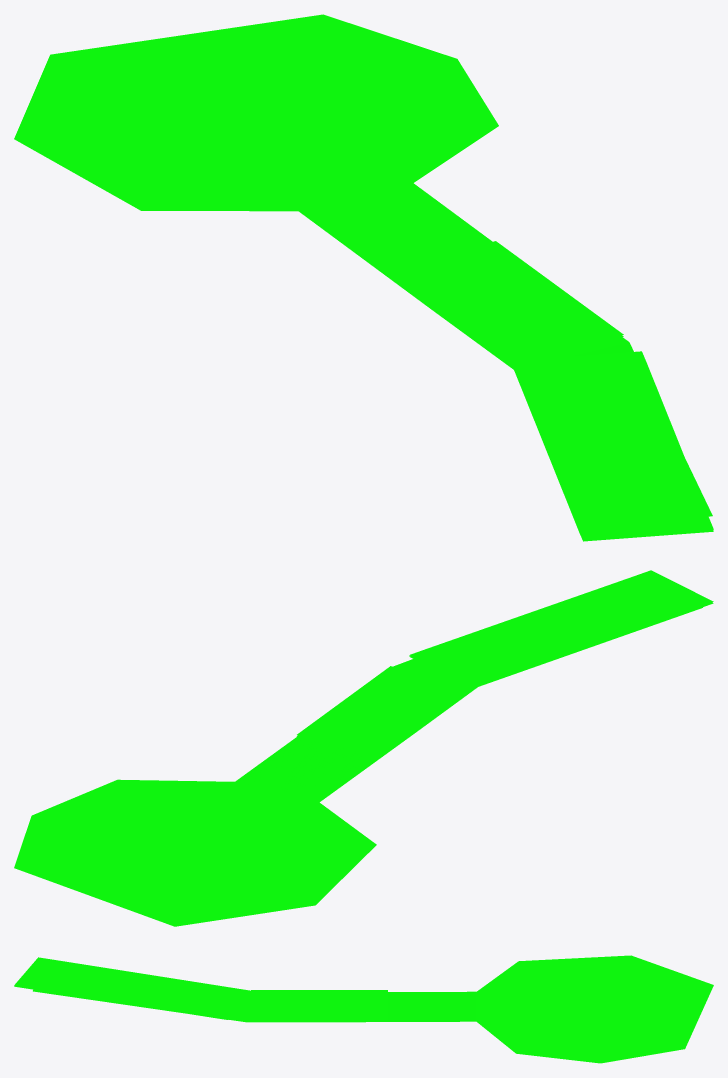
File: s03a_sa1-floor.glb
The picture shows the model from 3 angles, top to bottom: view 1: azimuth 30°, elevation 25°; view 2: azimuth 150°, elevation 25°; view 3: azimuth 270°, elevation 25°; orthographic projection. The views are drawn at different scales.
Visible parts, largest first — view 1: collision_floor-colonly; view 2: collision_floor-colonly; view 3: collision_floor-colonly.
Part boxes in pixels (left/top/right/bottom): collision_floor-colonly: left=14, top=14, right=713, bottom=541; collision_floor-colonly: left=14, top=570, right=713, bottom=926; collision_floor-colonly: left=14, top=955, right=713, bottom=1063.
Bounding box in the file's own units: 21.62 × 0.1992 × 59.21.
